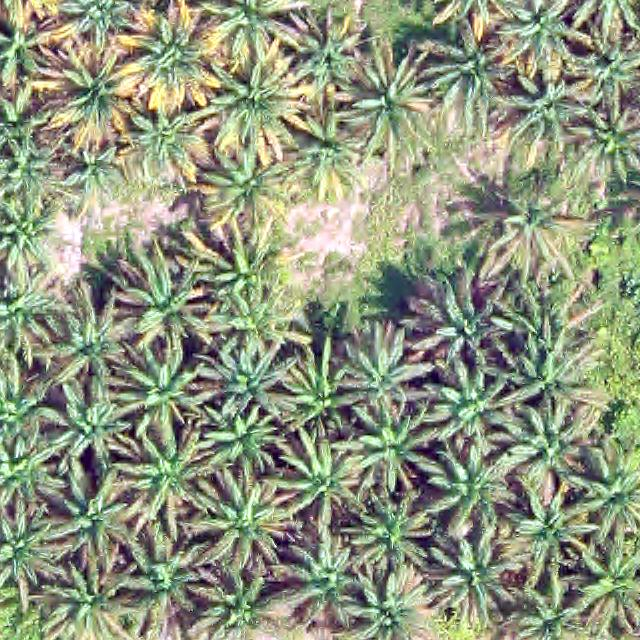oilpalm: (406, 265, 519, 379), (411, 24, 528, 124), (115, 243, 217, 354), (39, 42, 144, 141), (505, 466, 595, 578), (335, 404, 443, 497), (43, 290, 136, 396), (123, 7, 227, 101), (501, 274, 595, 377), (479, 173, 581, 267), (332, 329, 429, 427), (212, 53, 303, 157), (276, 423, 365, 529), (422, 442, 522, 536), (118, 430, 216, 521), (501, 344, 600, 433), (195, 475, 292, 565), (431, 525, 522, 620), (276, 344, 360, 444), (350, 59, 437, 152), (193, 227, 290, 310), (285, 10, 373, 101), (198, 154, 292, 237), (191, 560, 288, 640), (351, 493, 438, 582), (497, 68, 591, 149), (279, 104, 367, 190), (44, 472, 127, 560), (206, 285, 296, 366), (282, 531, 365, 618), (117, 96, 206, 176), (49, 381, 130, 467), (120, 348, 205, 429), (46, 559, 130, 640), (120, 534, 199, 619), (431, 372, 515, 449), (203, 339, 285, 417), (203, 406, 283, 479), (565, 26, 640, 101), (572, 98, 640, 178), (581, 454, 640, 542), (347, 577, 422, 640), (578, 544, 640, 620), (502, 0, 577, 60), (0, 131, 56, 210), (0, 275, 46, 354), (0, 518, 45, 587), (0, 439, 43, 511), (0, 199, 45, 259)
